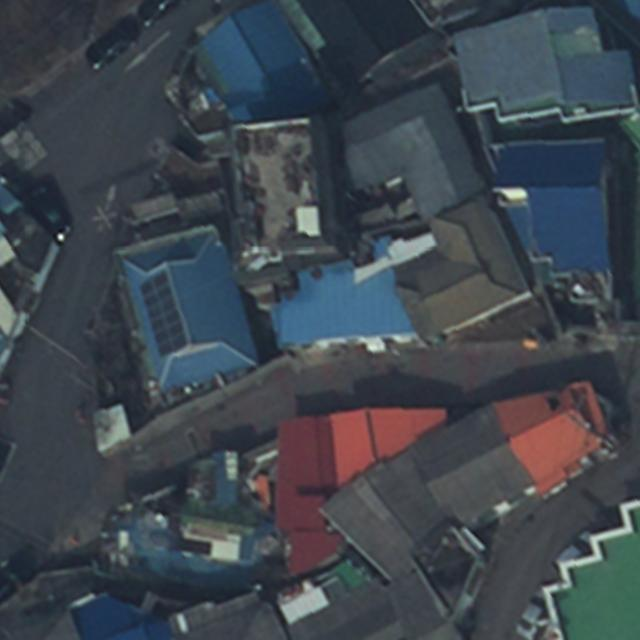panel: (138, 266, 188, 358)
